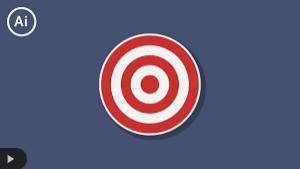target_red: (98, 32, 201, 136)
